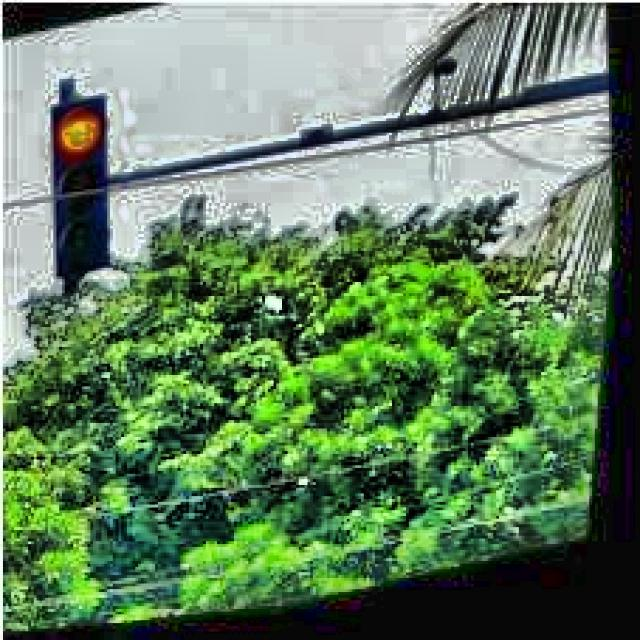red: (38, 92, 126, 280)
